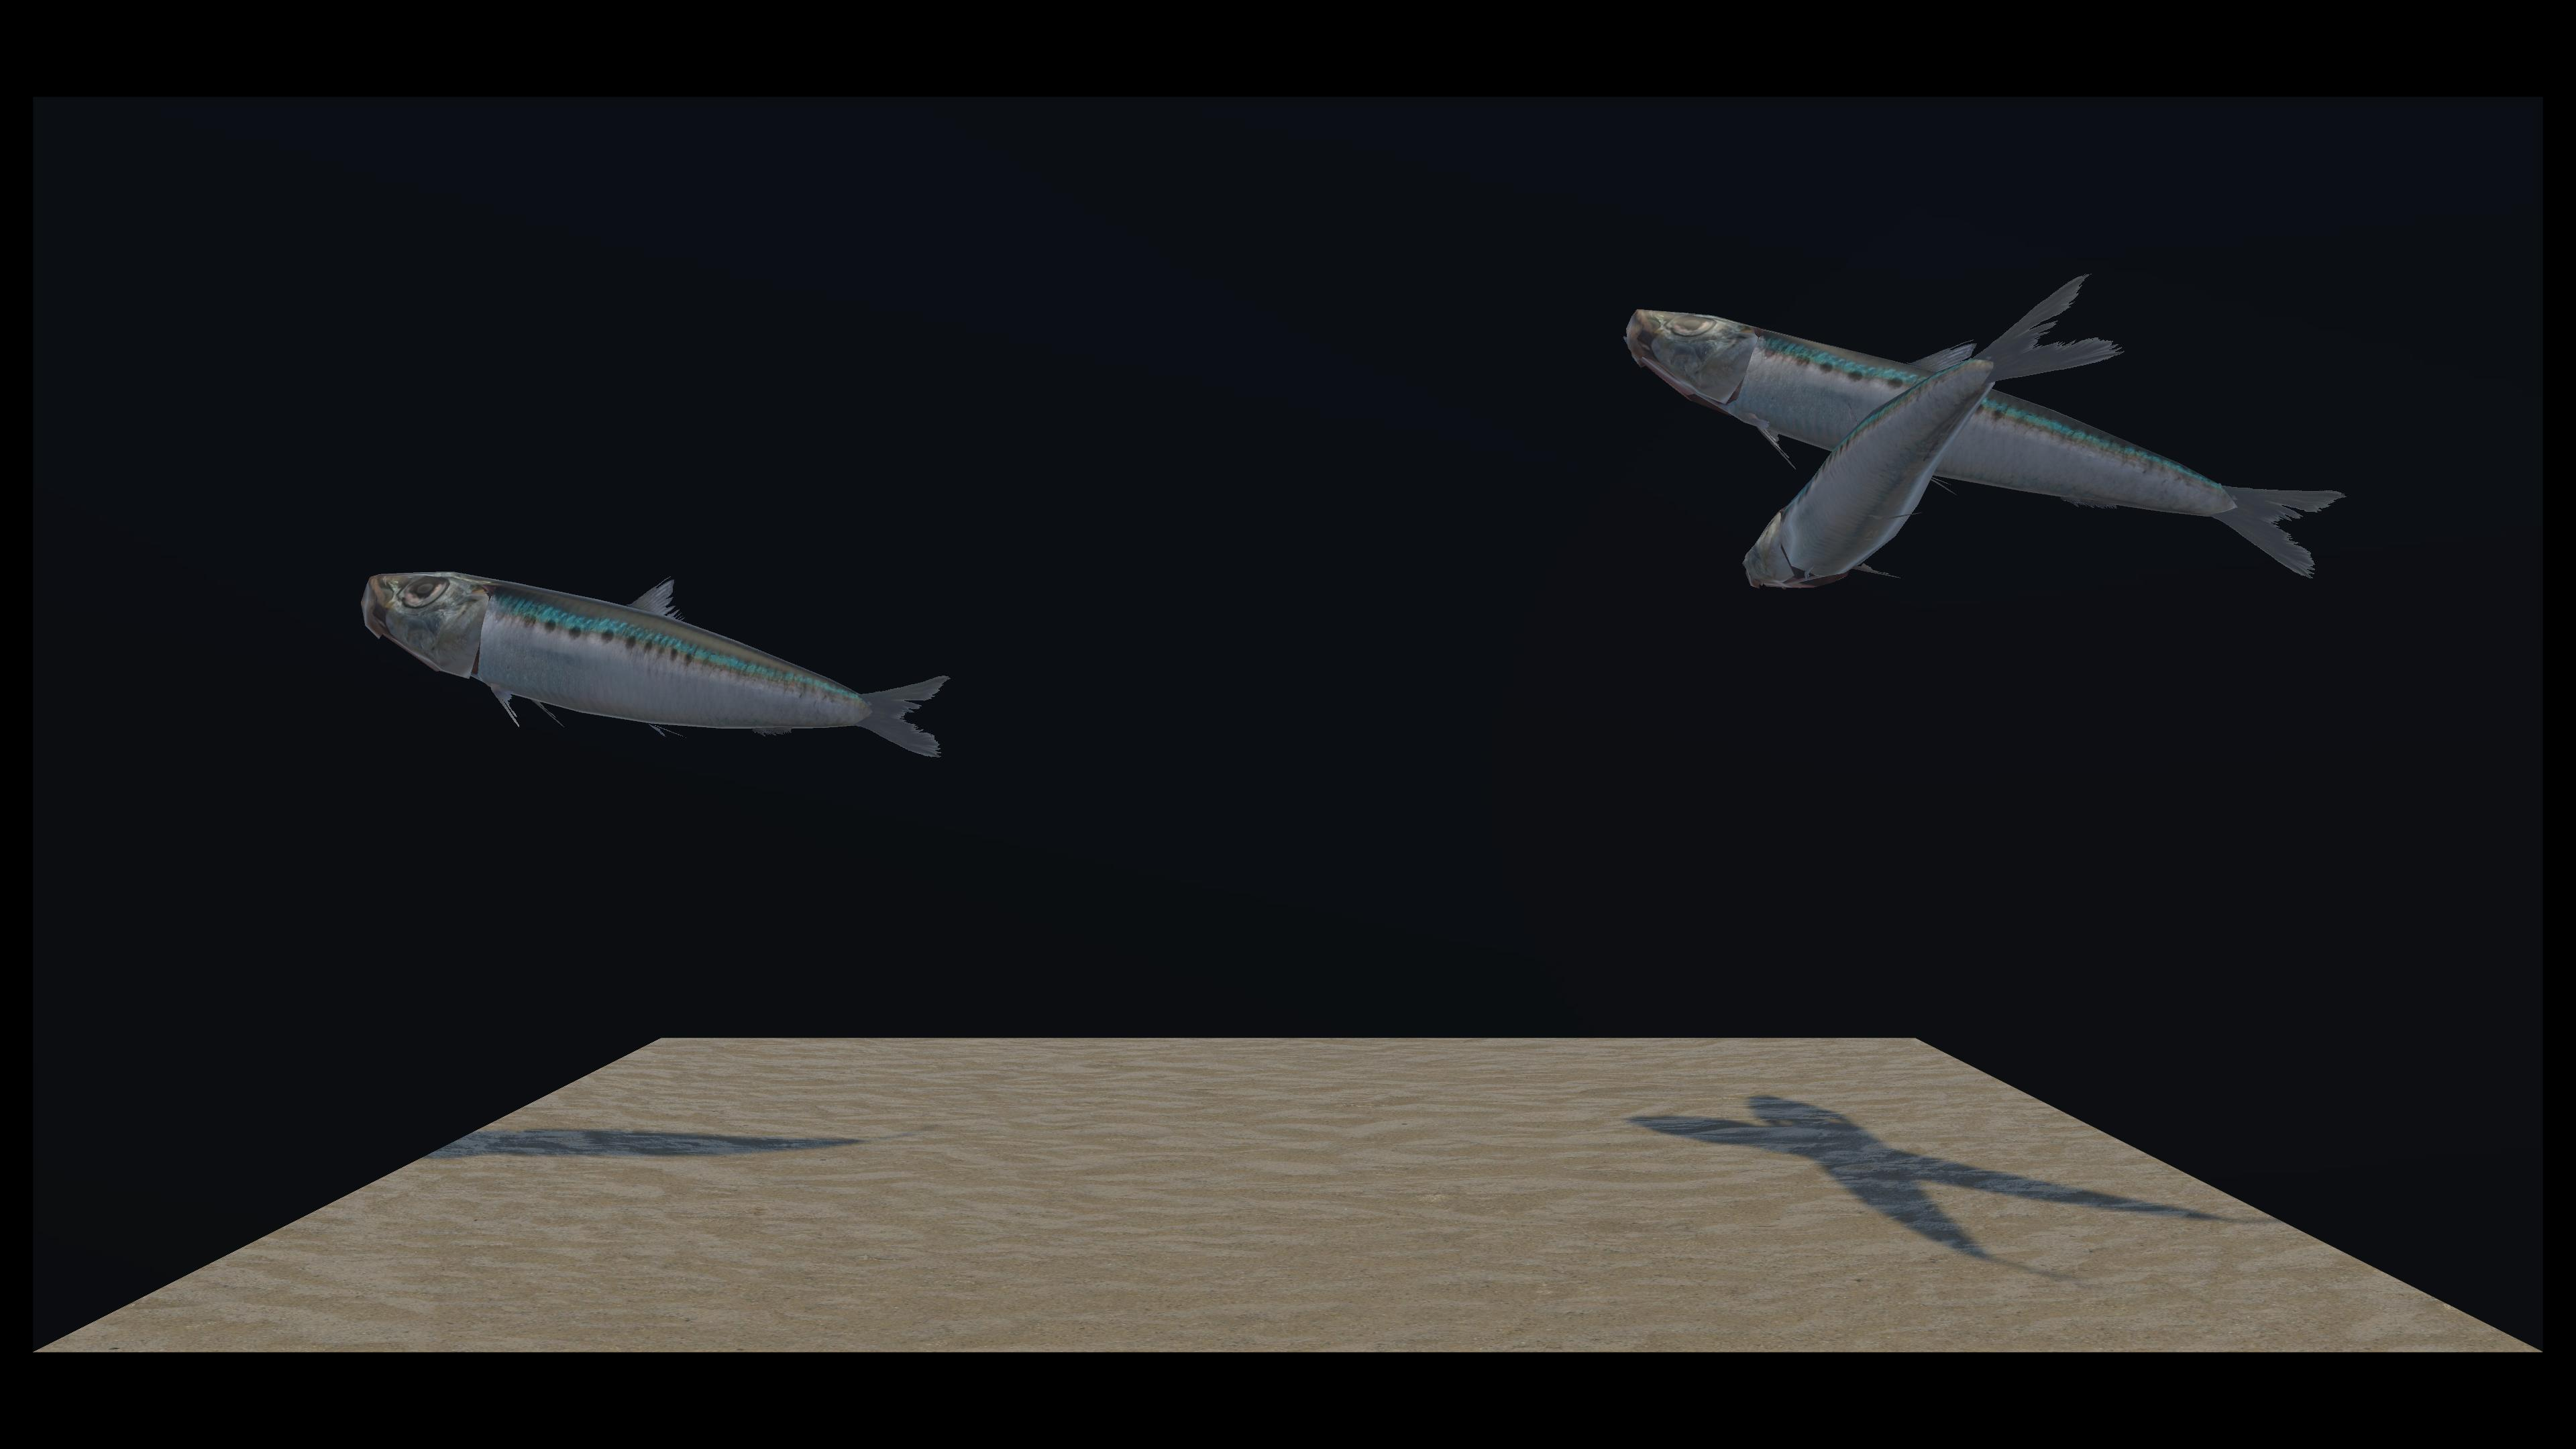Sardine_Front: (1047, 311, 2337, 686), (607, 269, 2109, 591), (382, 398, 943, 755)
